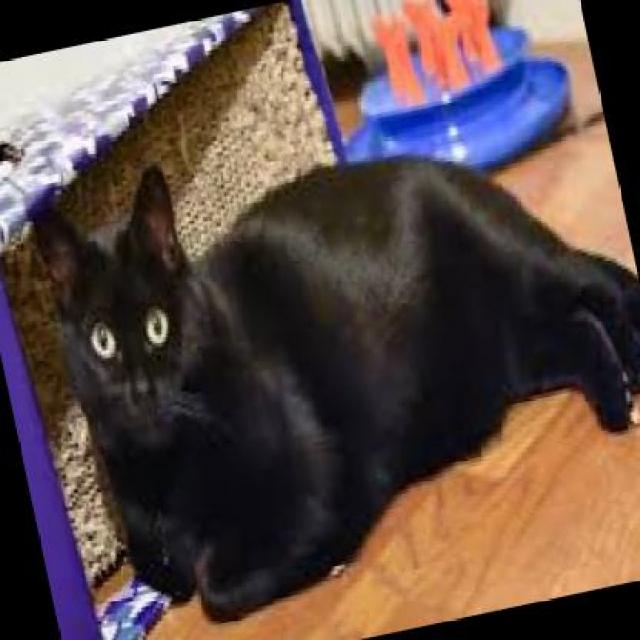animals: (31, 71, 638, 638)
